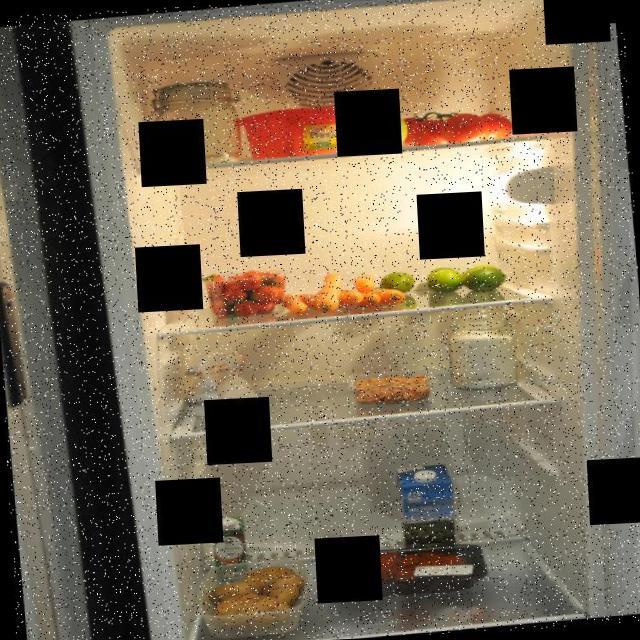Carne vacuno: (317, 537, 493, 601)
Gambas/Langostinos: (350, 368, 434, 406)
Leche: (396, 460, 462, 560)
Mantequilla: (234, 101, 366, 162)
Manzana: (345, 106, 411, 154)
Patata: (195, 554, 312, 640)
Tomate: (398, 99, 516, 150)
Zanahoria: (278, 265, 410, 317)
